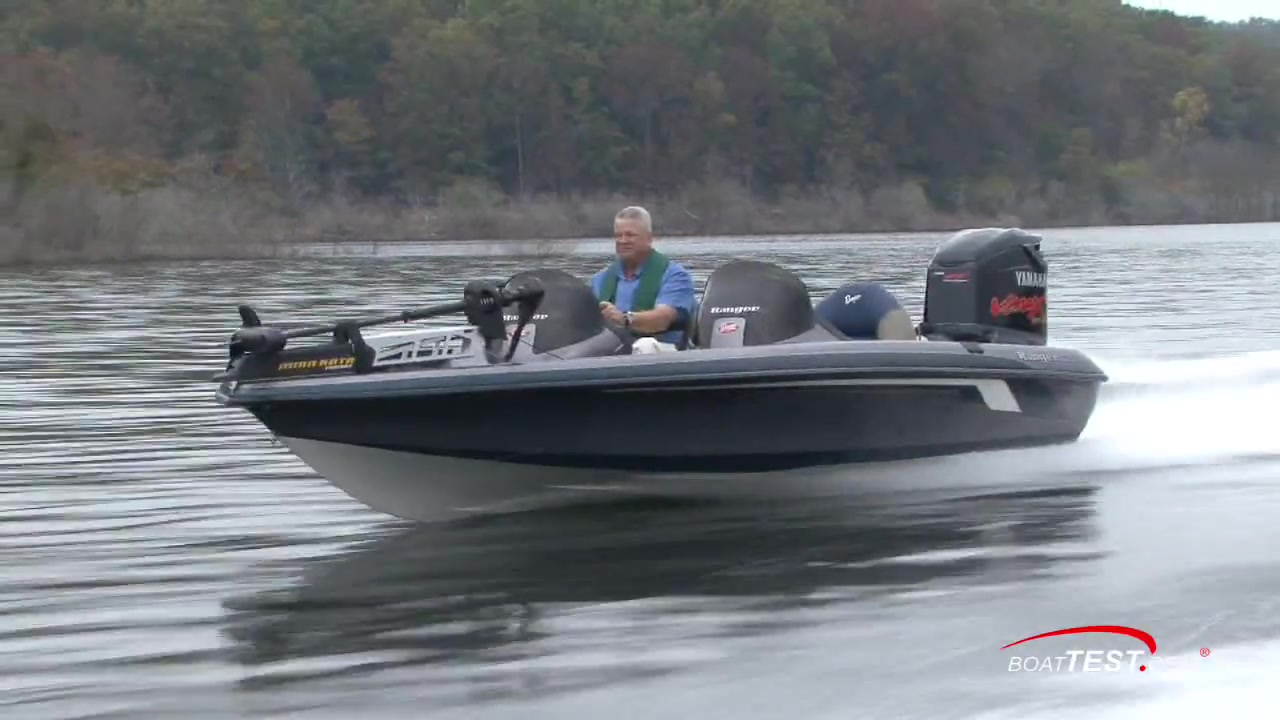boat: (211, 227, 1106, 527)
